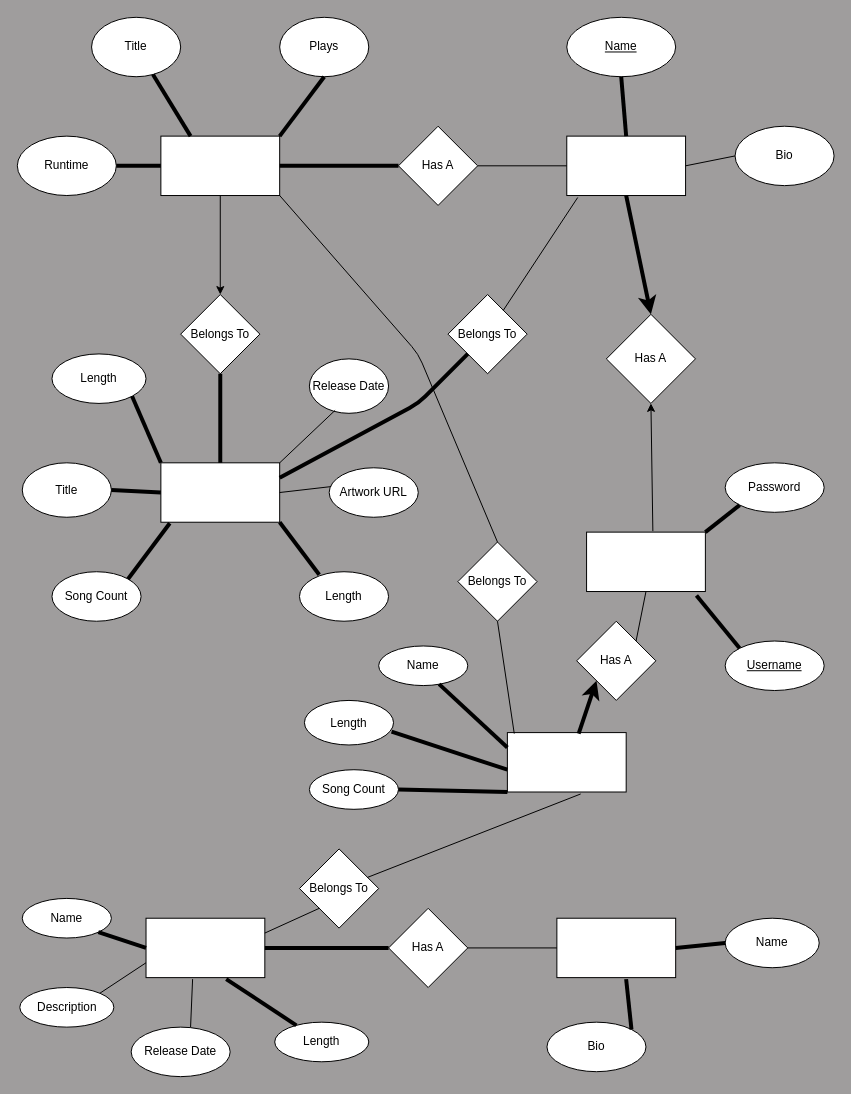
The diagram is 851 pixels wide and 1094 high, and some of its shapes have lost their labels. Here are the shapes that lost their labels. From the top down, the box of each, then its label:
(160, 135, 280, 196): Song
(566, 135, 686, 196): Artist
(160, 462, 280, 522): Album
(586, 531, 705, 592): User
(506, 732, 626, 792): Playlist
(145, 917, 265, 978): Episodes
(556, 917, 676, 978): Podcasts
